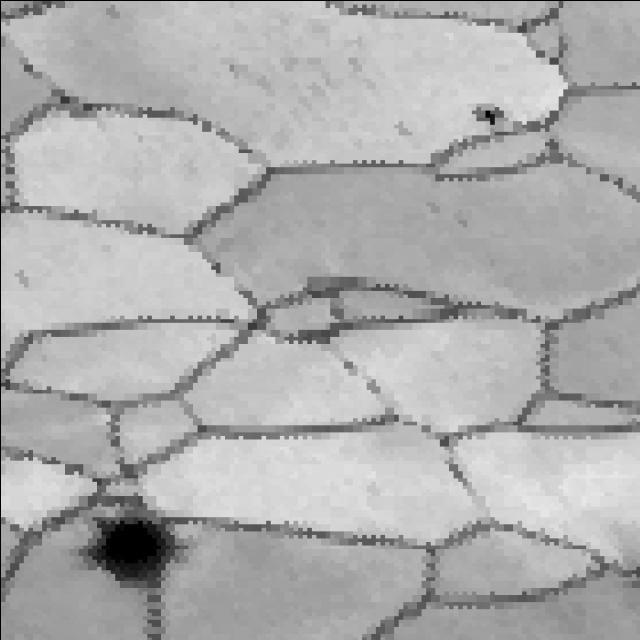good_void: (69, 501, 189, 604), (462, 101, 515, 135), (393, 116, 428, 144), (8, 266, 35, 293)
